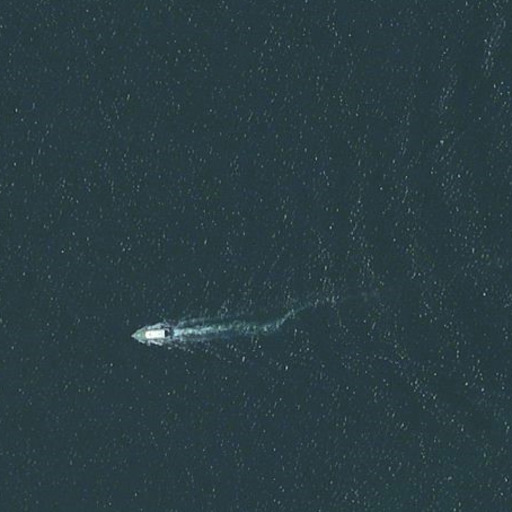ship: (128, 321, 178, 348)
